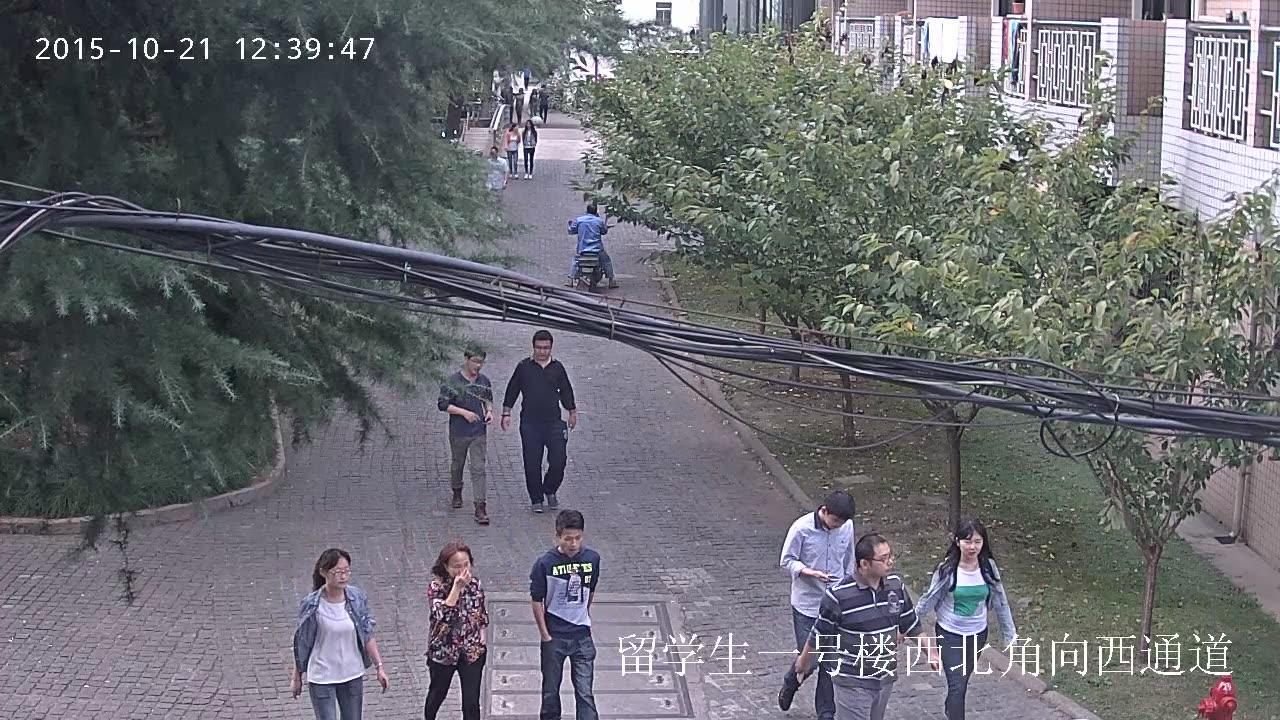person: (795, 531, 944, 720), (915, 518, 1019, 720), (777, 490, 857, 718), (290, 546, 390, 718), (528, 510, 599, 720), (501, 329, 577, 512), (423, 541, 491, 720), (437, 339, 493, 523), (566, 203, 618, 293), (566, 203, 618, 290), (485, 146, 510, 223), (521, 120, 537, 178), (504, 121, 520, 178), (500, 82, 515, 124), (539, 83, 549, 122), (514, 88, 524, 123), (529, 88, 539, 120), (523, 69, 529, 88)
